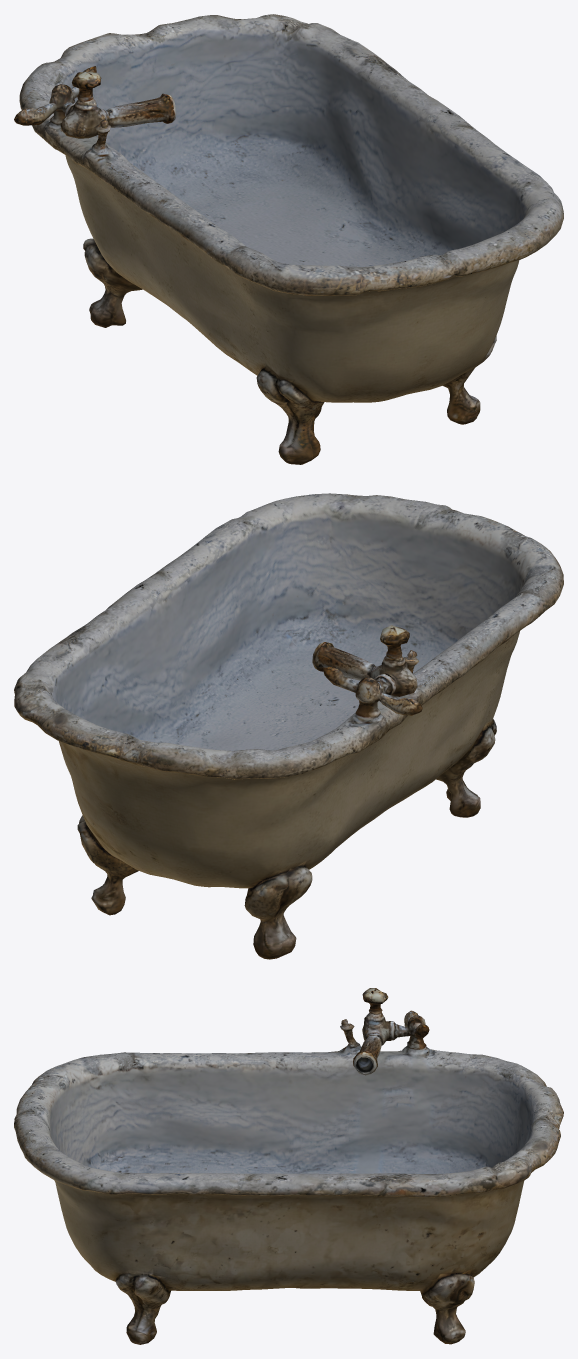
3 renders of one model, top to bottom at view 1: azimuth 30°, elevation 25°; view 2: azimuth 150°, elevation 25°; view 3: azimuth 270°, elevation 25°, orthographic. The views are drawn at different scales.
Parts seen in each view (by area): view 1: tripo_node_079b2b72-a174-485c-9b4c-66660f044b61; view 2: tripo_node_079b2b72-a174-485c-9b4c-66660f044b61; view 3: tripo_node_079b2b72-a174-485c-9b4c-66660f044b61.
Boxes of the visible parts, x1,y1,x2,y2 form: tripo_node_079b2b72-a174-485c-9b4c-66660f044b61: (14, 14, 563, 464); tripo_node_079b2b72-a174-485c-9b4c-66660f044b61: (14, 493, 563, 959); tripo_node_079b2b72-a174-485c-9b4c-66660f044b61: (14, 988, 563, 1344).
Size of the model in its own units: 0.6504 by 0.5141 by 1.
1 material, 1 textured.
